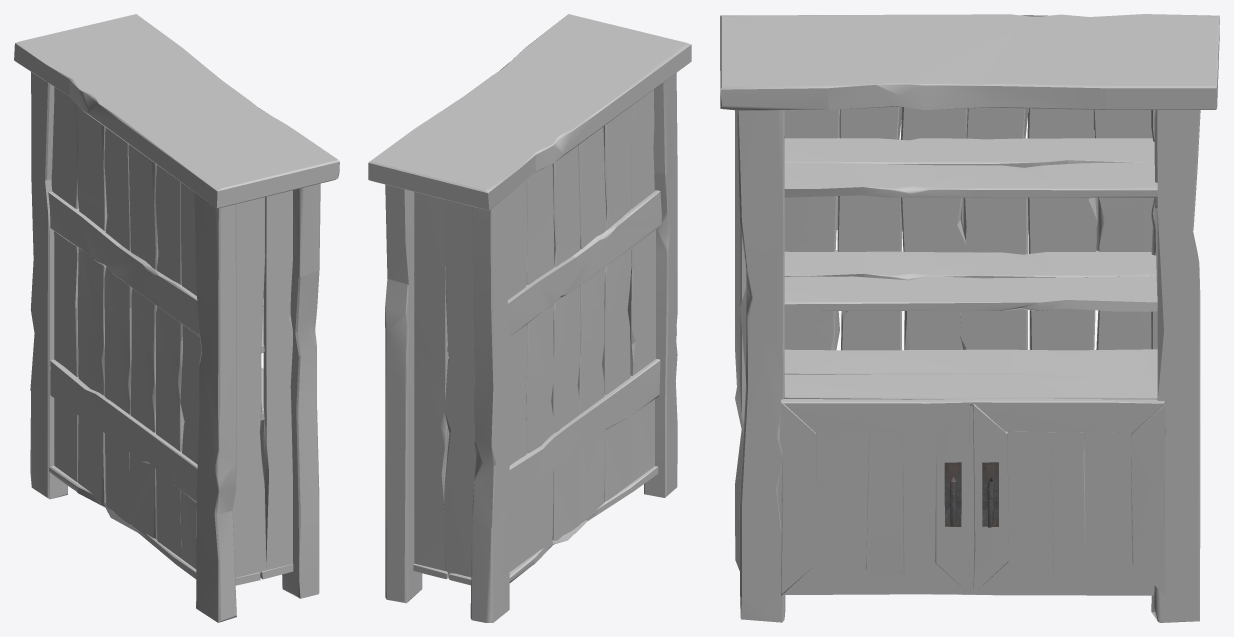
Rendered from SM_Bookshelf_A_03.fbx.
3 renders of one model, left to right at view 1: azimuth 30°, elevation 25°; view 2: azimuth 150°, elevation 25°; view 3: azimuth 270°, elevation 25°, orthographic. The views are drawn at different scales.
Parts seen in each view (by area): view 1: SM_Bookshelf_A_03_LOD0; view 2: SM_Bookshelf_A_03_LOD0; view 3: SM_Bookshelf_A_03_LOD0.
Part boxes in pixels (bbox=[...]): SM_Bookshelf_A_03_LOD0: bbox=[14, 14, 339, 622]; SM_Bookshelf_A_03_LOD0: bbox=[368, 14, 691, 622]; SM_Bookshelf_A_03_LOD0: bbox=[720, 14, 1219, 622].
Size of the model in its own units: 64.55 by 168 by 202.
